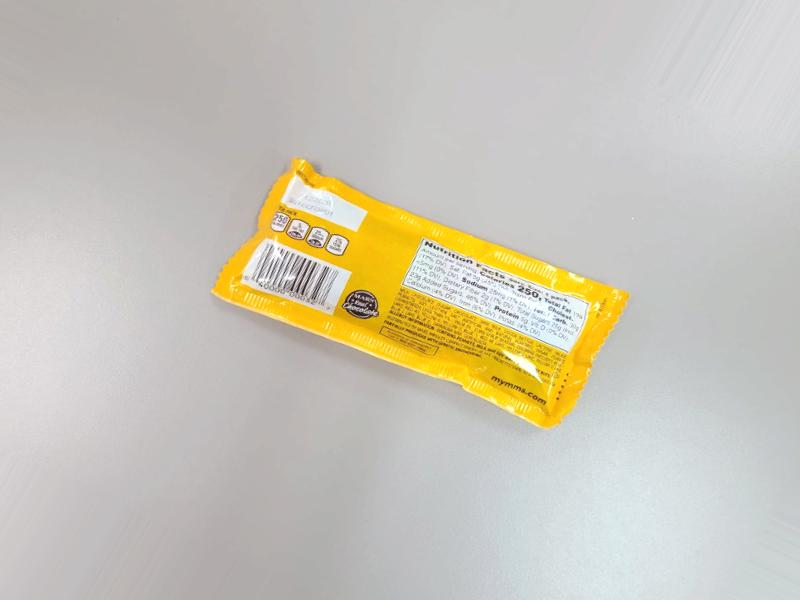m&m: (183, 179, 634, 447)
